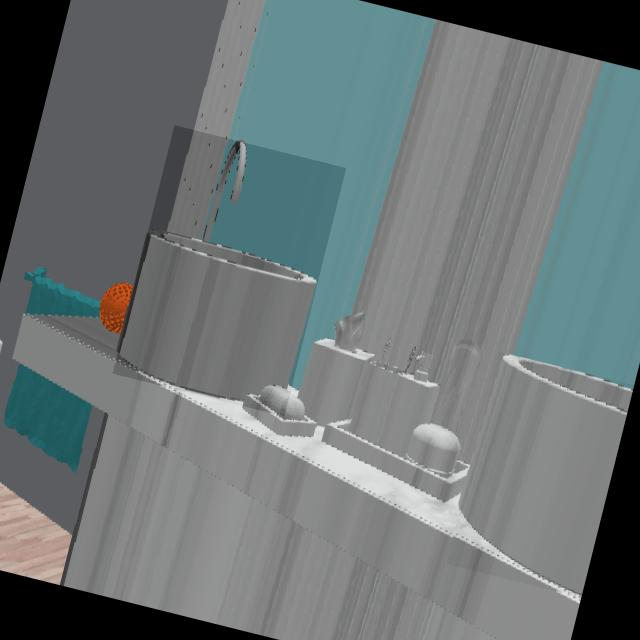washbasin: (117, 142, 317, 403), (459, 358, 632, 596)
